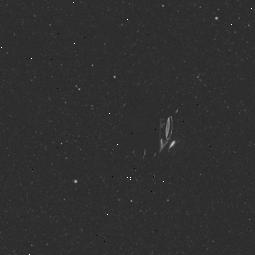proba_3_ocs: (110, 93, 186, 169)
